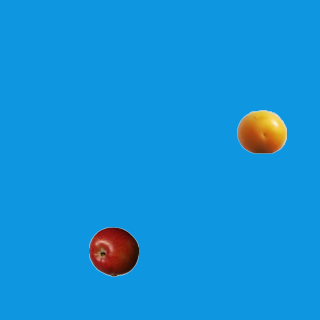Apple Braeburn: (88, 226, 138, 276)
Cherry Wax Yellow: (236, 106, 286, 156)
